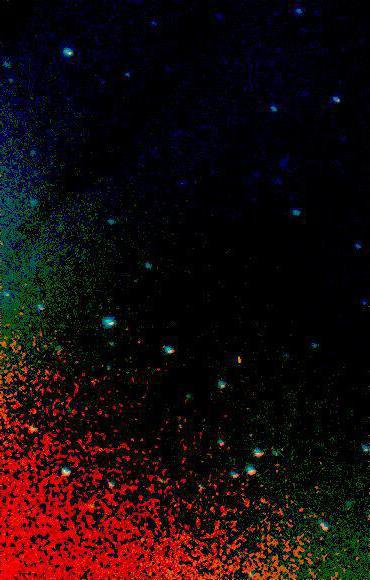star: (18, 80, 48, 110)
